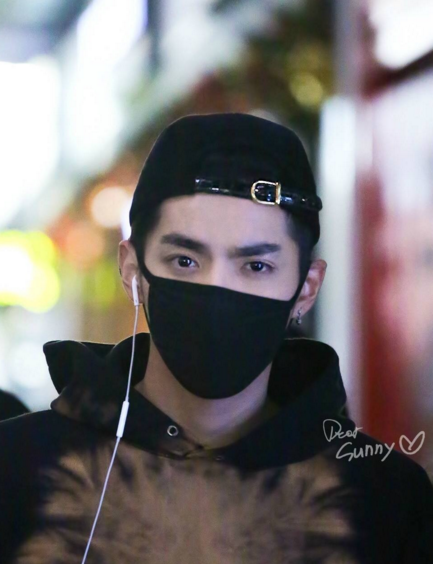face_mask: (141, 170, 298, 408)
